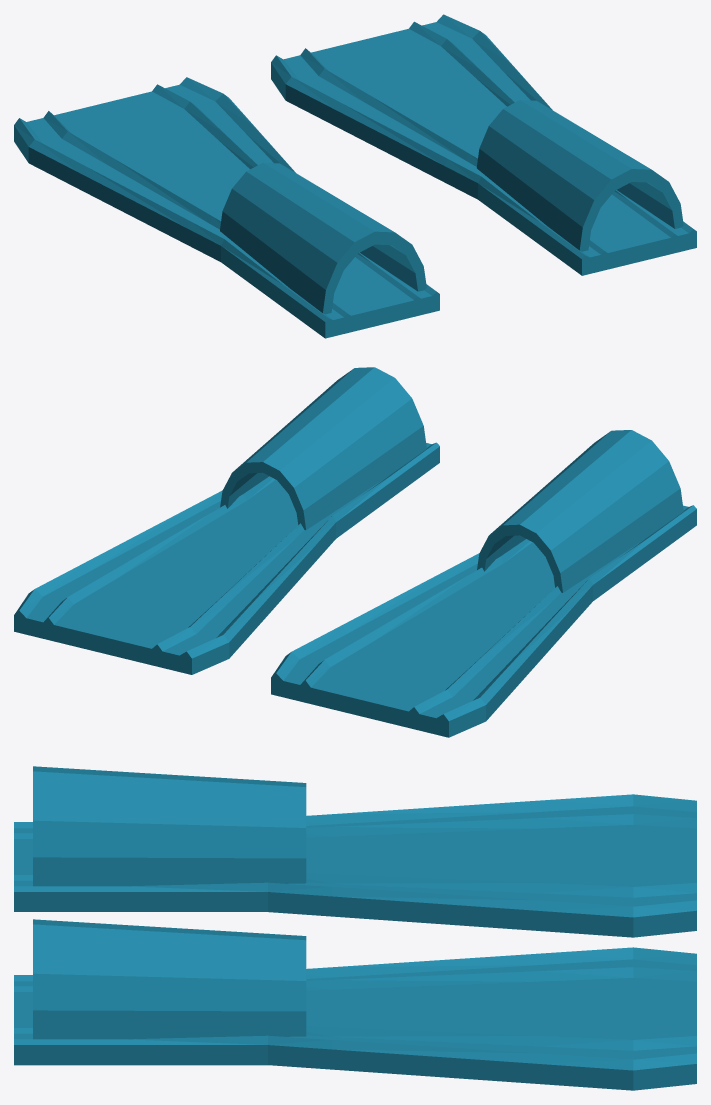
File: NEW_RECOVERY_073_LOD1.glb
3 renders of one model, top to bottom at view 1: azimuth 30°, elevation 25°; view 2: azimuth 150°, elevation 25°; view 3: azimuth 270°, elevation 25°, orthographic. The views are drawn at different scales.
Visible parts, largest first — view 1: FinRight, FinLeft; view 2: FinLeft, FinRight; view 3: FinRight, FinLeft.
Boxes of the visible parts, box(x1,y1,x2,y2) form: FinRight: box(271, 14, 696, 275); FinLeft: box(14, 77, 439, 338); FinLeft: box(271, 430, 696, 737); FinRight: box(14, 367, 439, 674); FinRight: box(14, 919, 696, 1090); FinLeft: box(14, 766, 696, 937).
Size of the model in its own units: 2.03 by 0.37 by 2.15.
